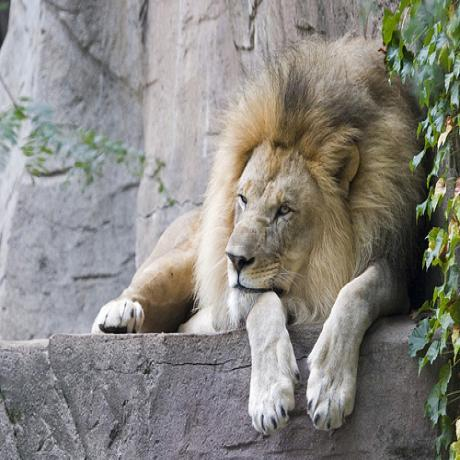Lion: (93, 30, 425, 433)
